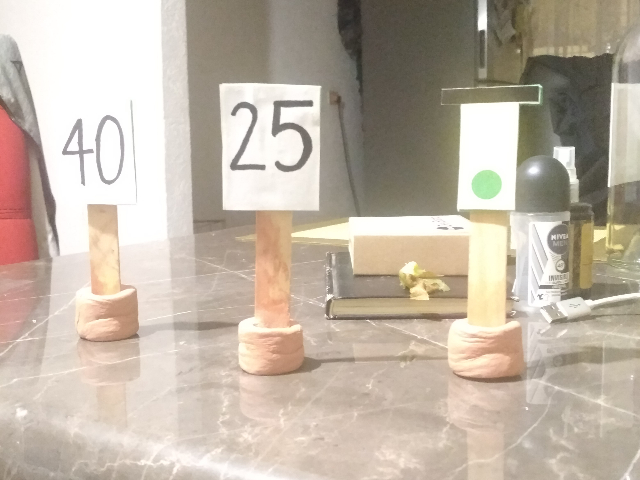Green Traffic Light: (436, 83, 541, 211)
Speed Limit 25: (215, 80, 324, 214)
Speed Limit 40: (49, 95, 139, 204)
